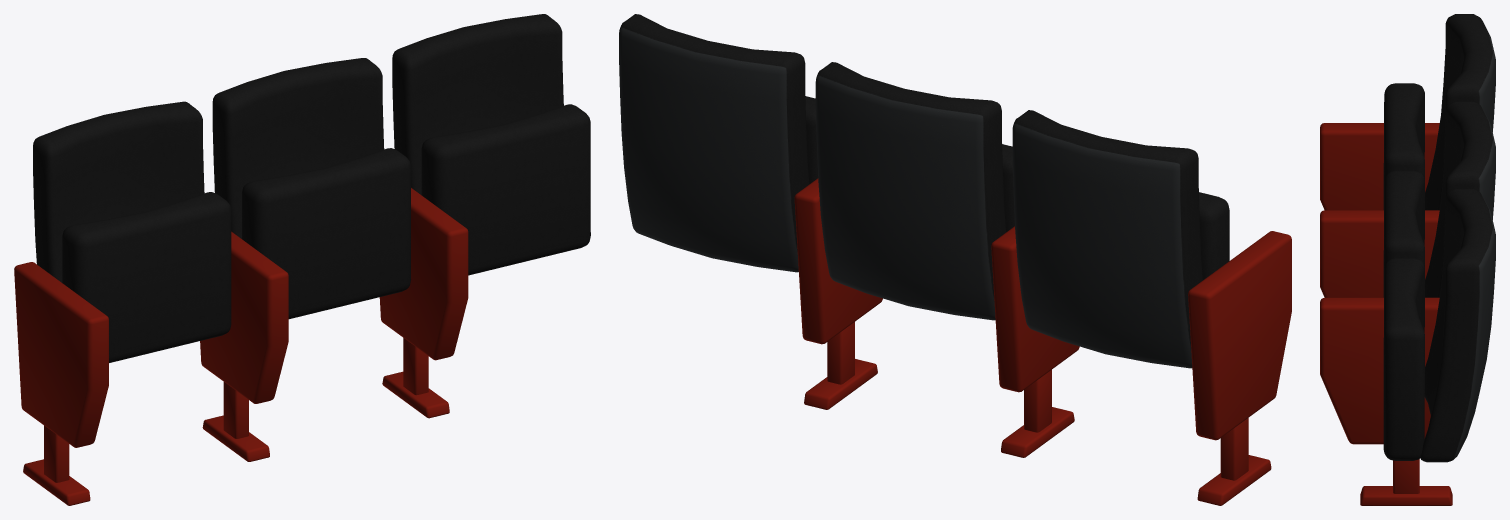
Rendered from chairclosearray3.fbx.
3 renders of one model, left to right at view 1: azimuth 30°, elevation 25°; view 2: azimuth 150°, elevation 25°; view 3: azimuth 270°, elevation 25°, orthographic. The views are drawn at different scales.
Parts seen in each view (by area): view 1: reposabrazos:001; view 2: reposabrazos:001; view 3: reposabrazos:001.
Boxes of the visible parts, bbox=[...] form: reposabrazos:001: bbox=[14, 14, 590, 505]; reposabrazos:001: bbox=[619, 14, 1291, 505]; reposabrazos:001: bbox=[1320, 14, 1495, 505].
Size of the model in its own units: 311 by 177 by 88.24.
Materials: 2 (2 with a texture image).
